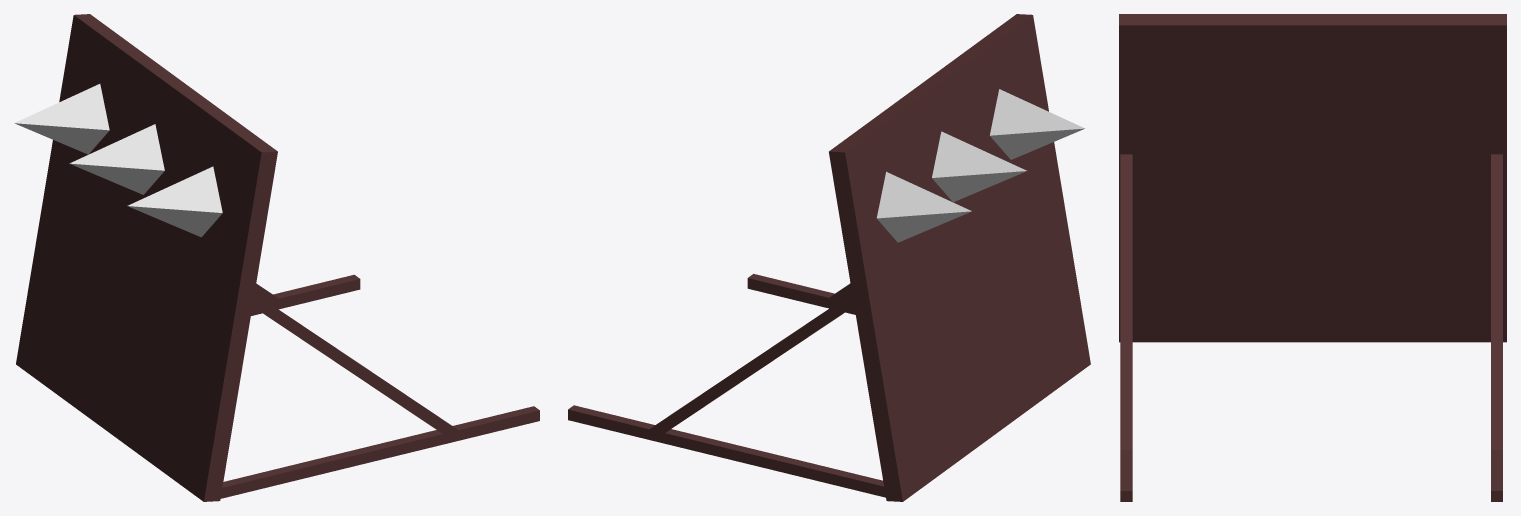
File: barricade wood.fbx
3 renders of one model, left to right at view 1: azimuth 30°, elevation 25°; view 2: azimuth 150°, elevation 25°; view 3: azimuth 270°, elevation 25°, orthographic. The views are drawn at different scales.
Parts seen in each view (by area): view 1: barricade_wood; view 2: barricade_wood; view 3: barricade_wood.
Part boxes in pixels (x1=…): barricade_wood: x1=14, y1=14, x2=539, y2=501; barricade_wood: x1=568, y1=14, x2=1090, y2=501; barricade_wood: x1=1119, y1=14, x2=1506, y2=501.
Size of the model in its own units: 73.44 by 63.78 by 64.22.
